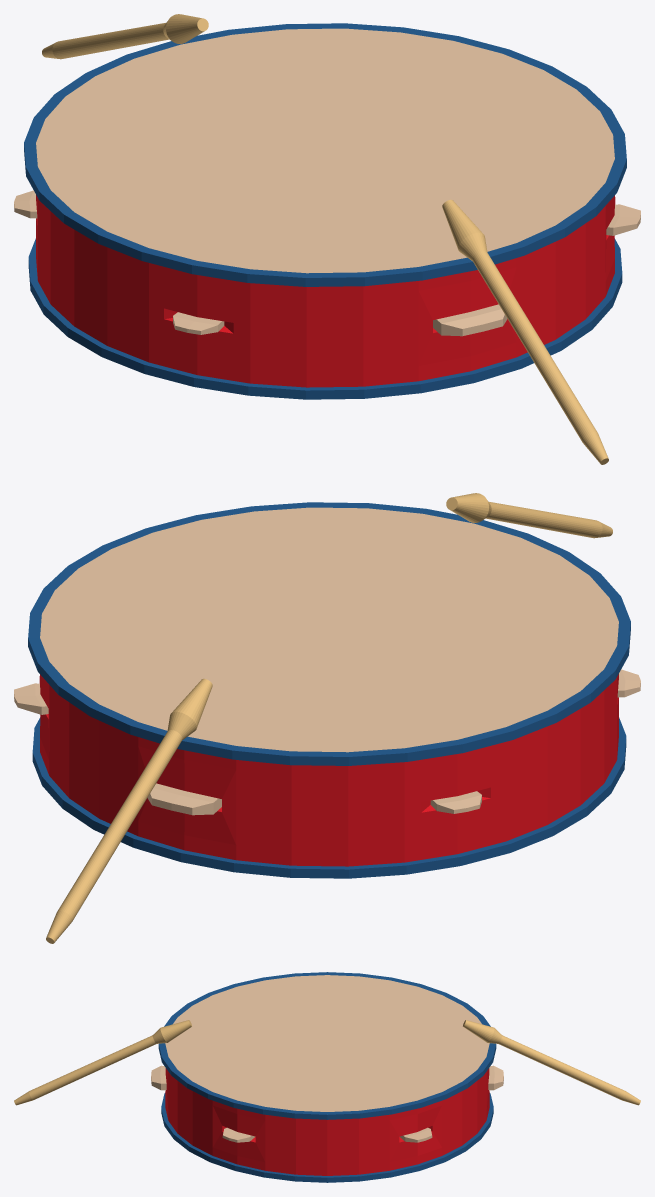
Rendered from Tambor.fbx.
The picture shows the model from 3 angles, top to bottom: view 1: azimuth 30°, elevation 25°; view 2: azimuth 150°, elevation 25°; view 3: azimuth 270°, elevation 25°; orthographic projection. The views are drawn at different scales.
Parts seen in each view (by area): view 1: Tambor, Batuque; view 2: Tambor, Batuque; view 3: Tambor, Batuque.
Part boxes in pixels (x1=…): Tambor: x1=14, y1=23, x2=640, y2=399; Batuque: x1=42, y1=14, x2=608, y2=464; Tambor: x1=14, y1=502, x2=640, y2=878; Batuque: x1=46, y1=493, x2=612, y2=943; Tambor: x1=151, y1=972, x2=503, y2=1182; Batuque: x1=14, y1=1020, x2=640, y2=1105.
Size of the model in its own units: 308 by 571 by 92.66.
